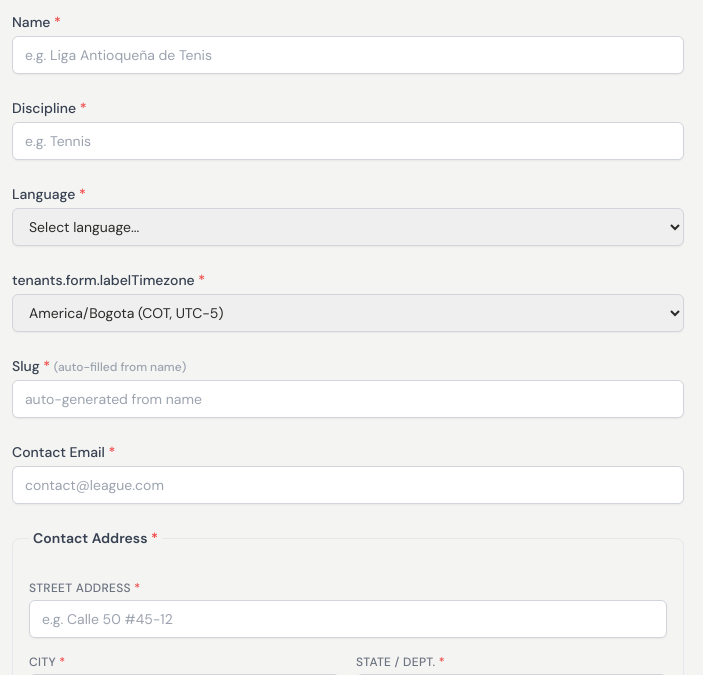
Test: TenantForm › shows slug preview with accent stripping
Type "Liga Antioquena" into the field labelled "Name *".
click(348, 55); type("Liga Antioquena")  # box [12,36,684,74]
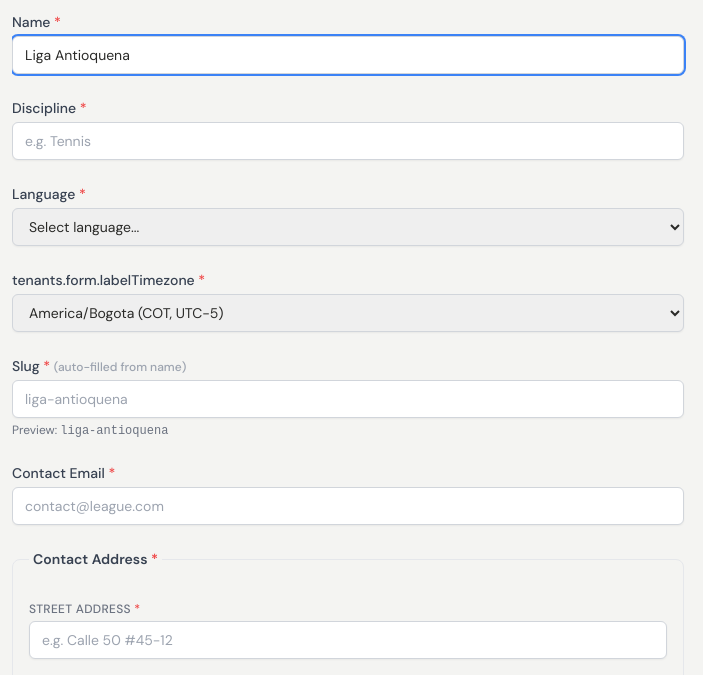
Expected: the text with test id "slug-preview" reads "liga-antioquena", [60,424,168,438]
